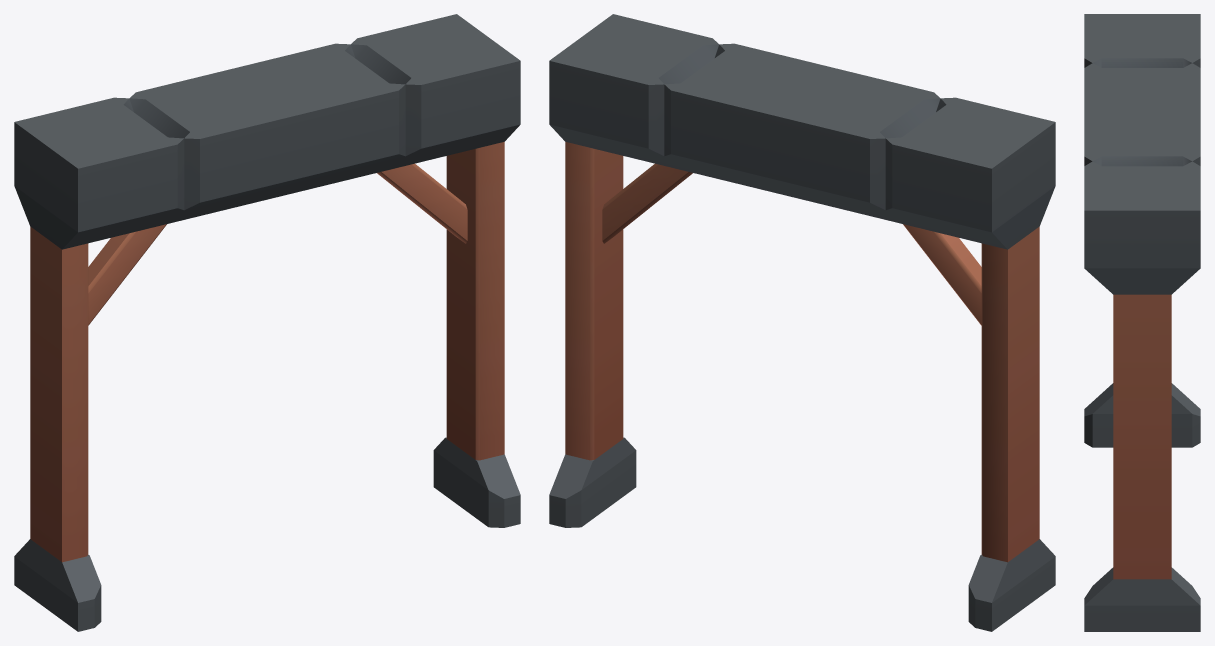
Rendered from wall_open_scaffold.glb.
3 renders of one model, left to right at view 1: azimuth 30°, elevation 25°; view 2: azimuth 150°, elevation 25°; view 3: azimuth 270°, elevation 25°, orthographic. The views are drawn at different scales.
Visible parts, largest first — view 1: wall_open_scaffold; view 2: wall_open_scaffold; view 3: wall_open_scaffold.
Part boxes in pixels (x1,y1,x2,y2): wall_open_scaffold: (14, 14, 520, 631); wall_open_scaffold: (549, 14, 1055, 631); wall_open_scaffold: (1084, 14, 1200, 631).
Bounding box in the file's own units: 4 × 4 × 1.
1 material, 1 textured.
